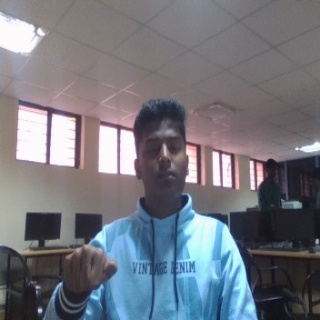Face: (133, 101, 190, 211)
Yes: (60, 243, 120, 304)
